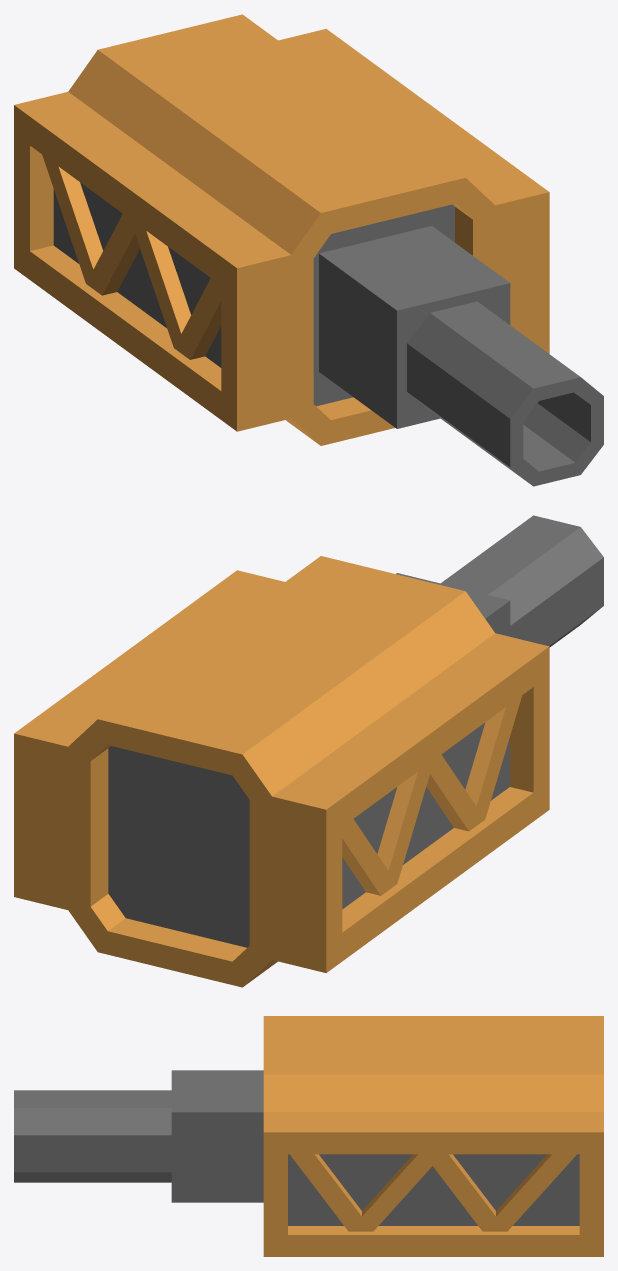
File: Turret.fbx
3 renders of one model, top to bottom at view 1: azimuth 30°, elevation 25°; view 2: azimuth 150°, elevation 25°; view 3: azimuth 270°, elevation 25°, orthographic. The views are drawn at different scales.
Parts seen in each view (by area): view 1: Turret_Body, Turret_Barrel, Turret_Barrel_Base, Turret_Struts; view 2: Turret_Body, Turret_Barrel, Turret_Struts, Turret_Barrel_Base; view 3: Turret_Body, Turret_Barrel, Turret_Barrel_Base, Turret_Struts.
Part boxes in pixels (box(x1,y1,x2,y2)): Turret_Body: box(14, 14, 549, 445); Turret_Barrel: box(407, 301, 603, 486); Turret_Barrel_Base: box(319, 226, 510, 428); Turret_Struts: box(42, 154, 221, 359); Turret_Body: box(14, 556, 549, 987); Turret_Barrel: box(441, 515, 603, 647); Turret_Struts: box(342, 696, 521, 895); Turret_Barrel_Base: box(396, 573, 510, 636); Turret_Body: box(263, 1016, 603, 1256); Turret_Barrel: box(14, 1090, 171, 1182); Turret_Barrel_Base: box(171, 1070, 263, 1202); Turret_Struts: box(290, 1154, 576, 1231).
Bounding box in the file's own units: 200 × 143 × 429.
